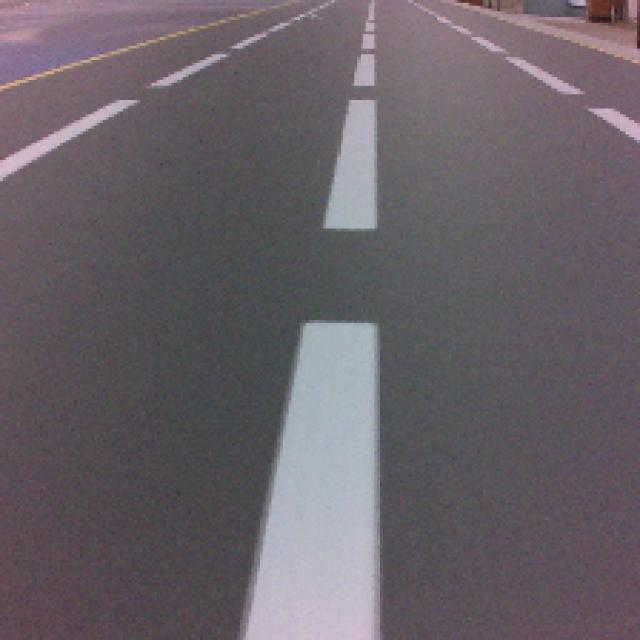Guard rail: (246, 326, 380, 640)
